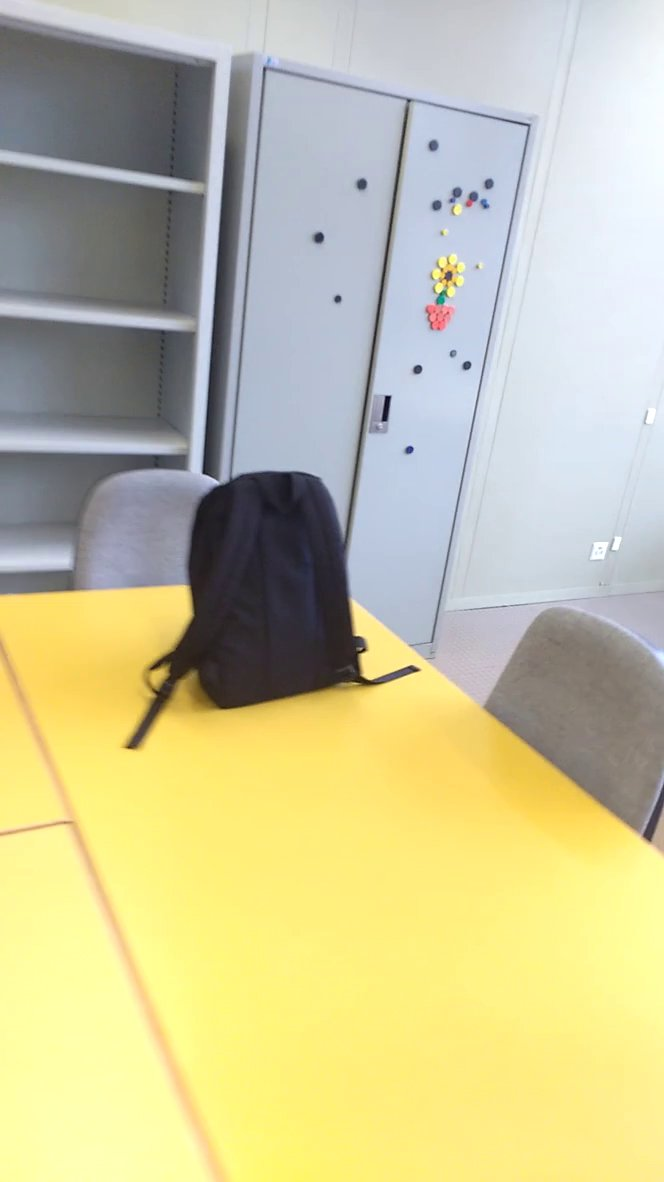bag: (124, 466, 427, 756)
chair: (470, 552, 664, 897), (46, 451, 229, 603)
